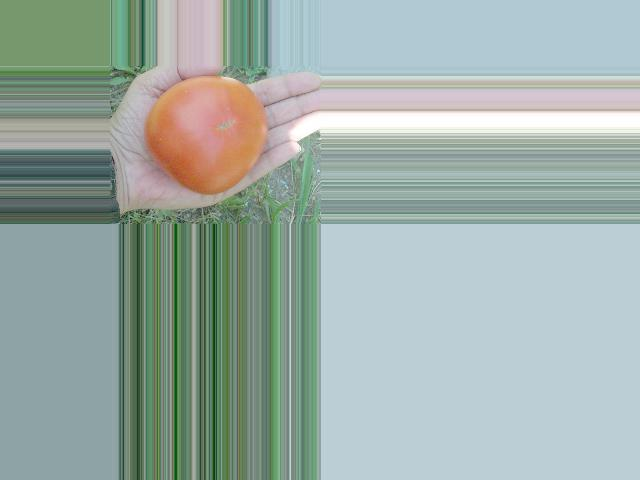tomato: (146, 76, 267, 195)
